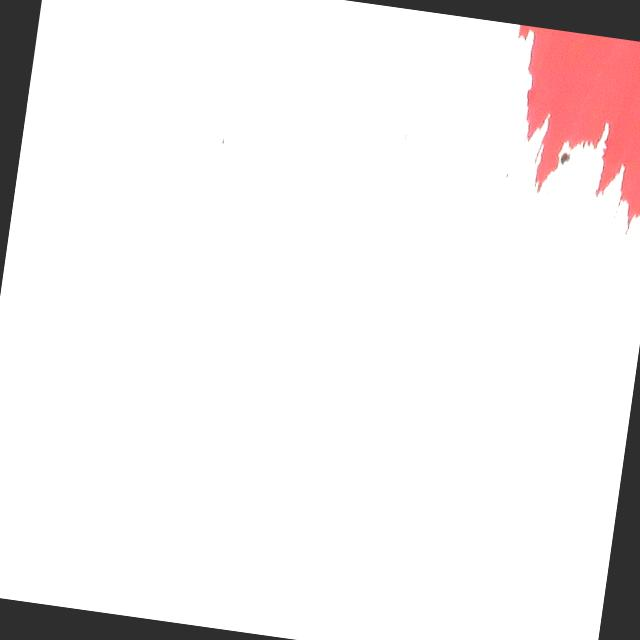surface_peeling: (485, 26, 640, 249)
